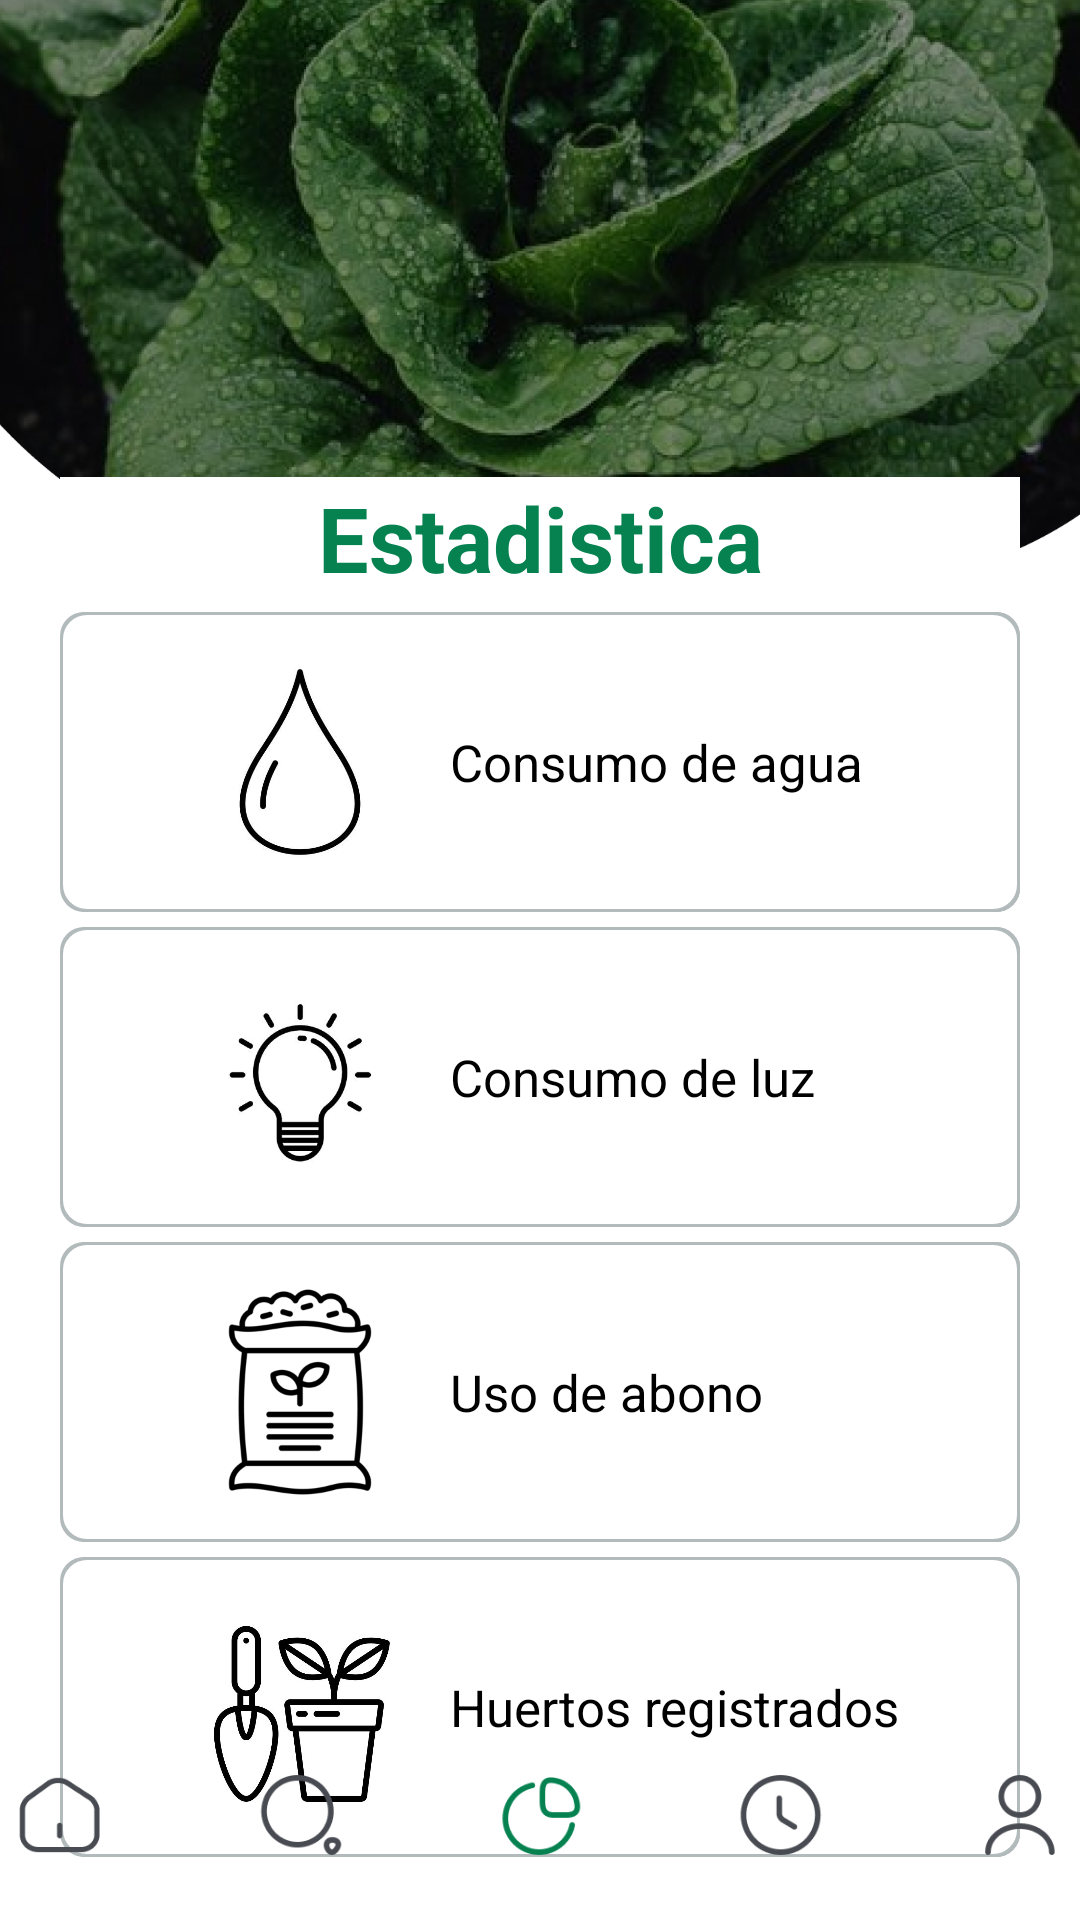

Named icons in this screenshot (1080x1920) and their bounding boxes, (left=x1, top=y1, right=x2, bottom=y2):
aguar: (left=239, top=669, right=361, bottom=855)
clock: (left=735, top=1775, right=825, bottom=1857)
graphg: (left=495, top=1777, right=585, bottom=1857)
home: (left=19, top=1770, right=105, bottom=1857)
user: (left=975, top=1770, right=1055, bottom=1857)
